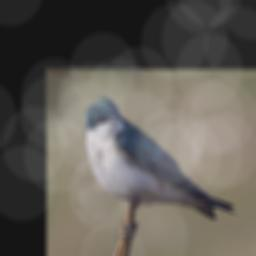Swallow: (84, 97, 237, 220)
